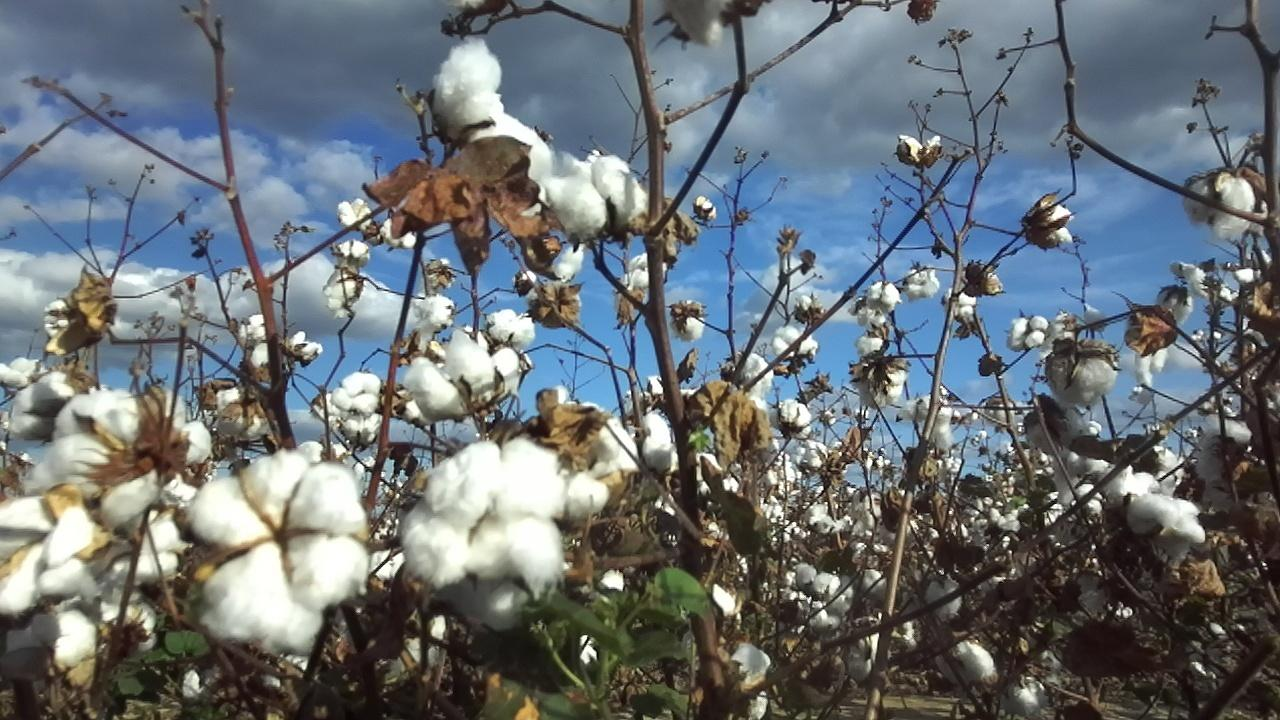cotton_ready: (187, 450, 367, 650), (401, 437, 567, 624), (29, 390, 212, 527), (437, 37, 549, 195), (0, 494, 94, 611), (367, 550, 447, 687), (409, 327, 525, 419), (1104, 470, 1204, 563), (540, 153, 649, 237), (35, 599, 157, 674), (551, 404, 629, 510), (107, 510, 187, 589), (1185, 175, 1256, 243), (1044, 349, 1119, 413), (0, 357, 74, 407), (332, 370, 385, 413)
